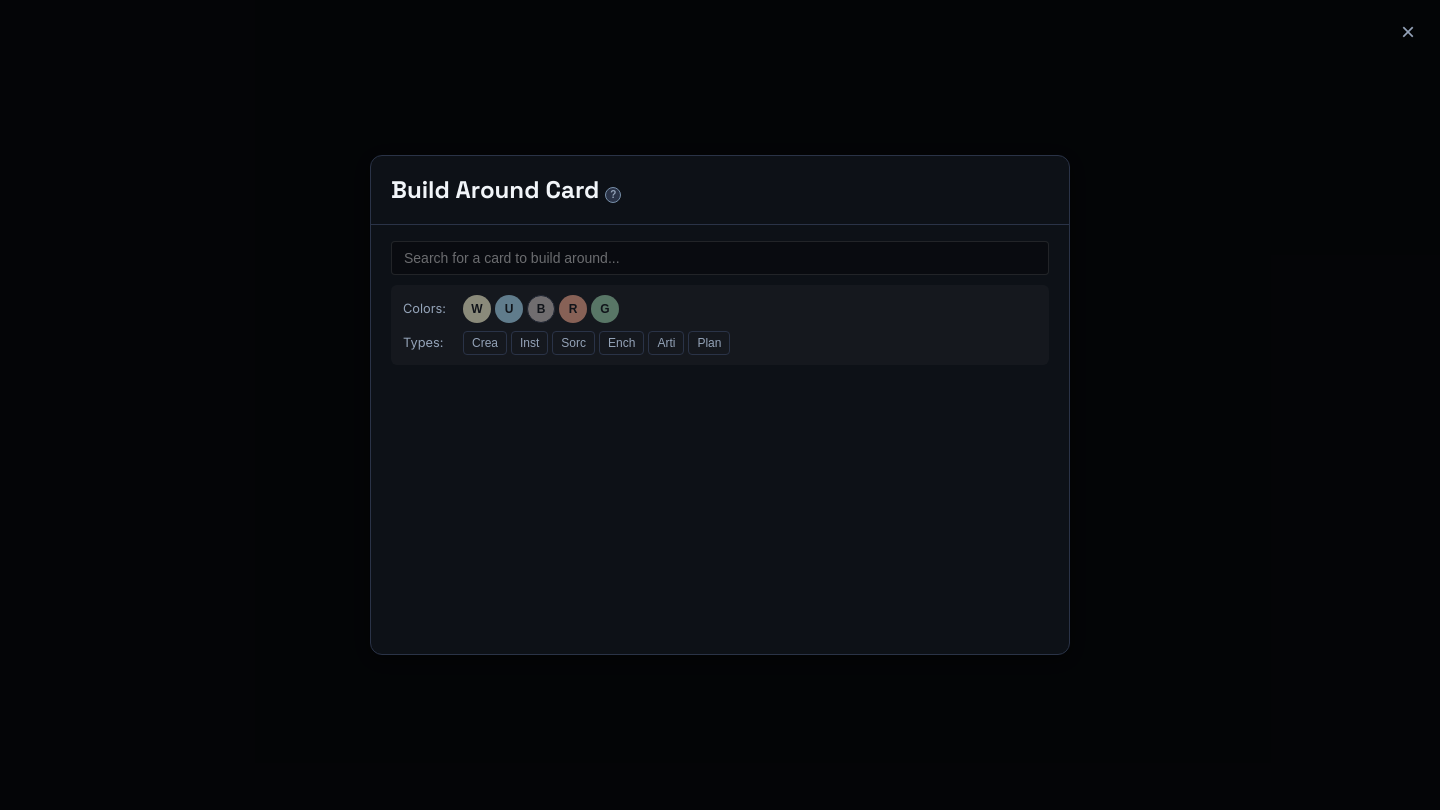
it: BuildAroundSeedModal › Search Filters › should allow multiple color filters (OR logic)
The width and height of the screenshot is (1440, 810).
// Search for cards
Type "Card" into the field with placeholder "Search for a card to build around...".
click(720, 258); type("Card")  # box 391,241 -> 1049,275
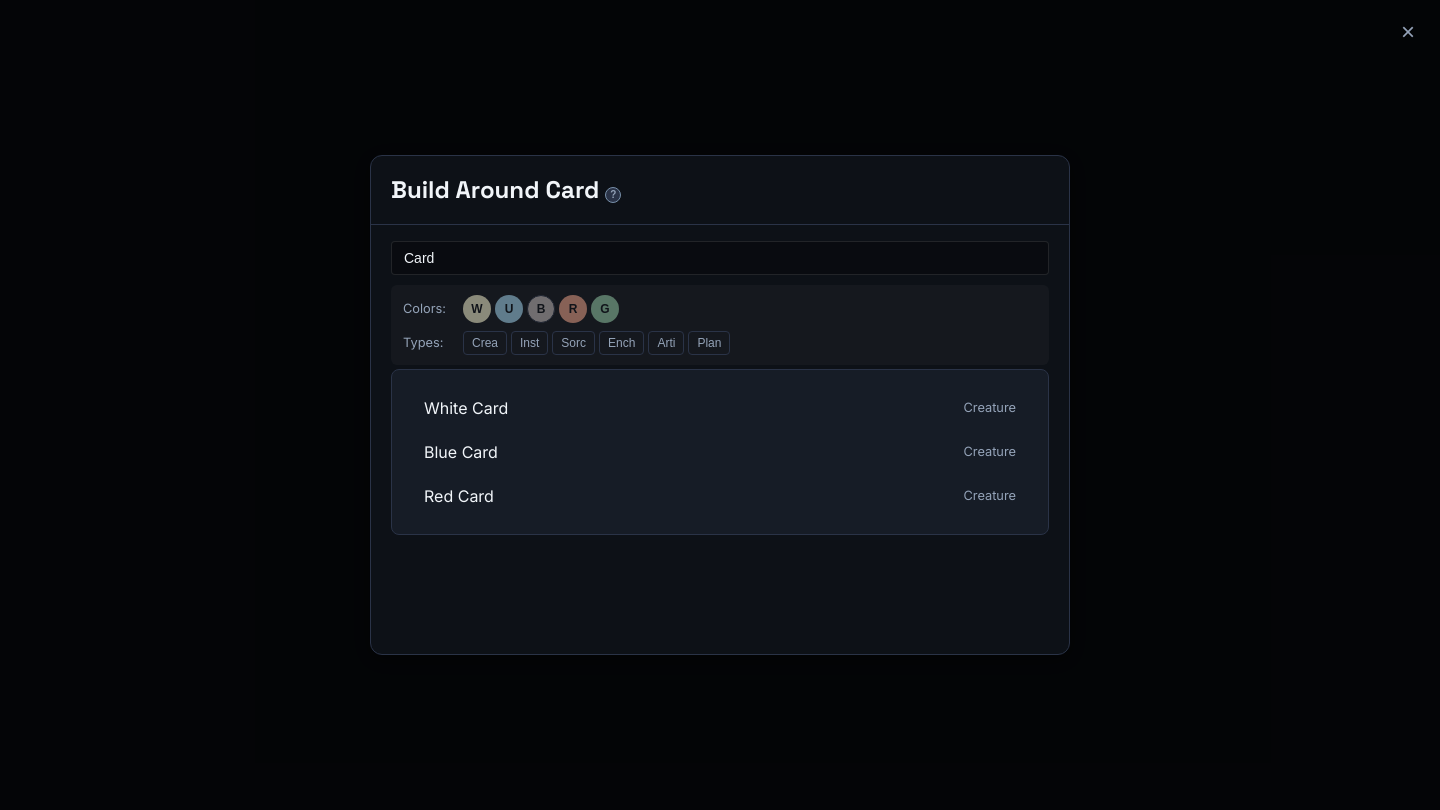
Result: the text "White Card" is shown at 424,398 -> 508,418
// Click White and Blue color filters
Click the button titled "White".
click(477, 309)  # box 463,295 -> 491,323
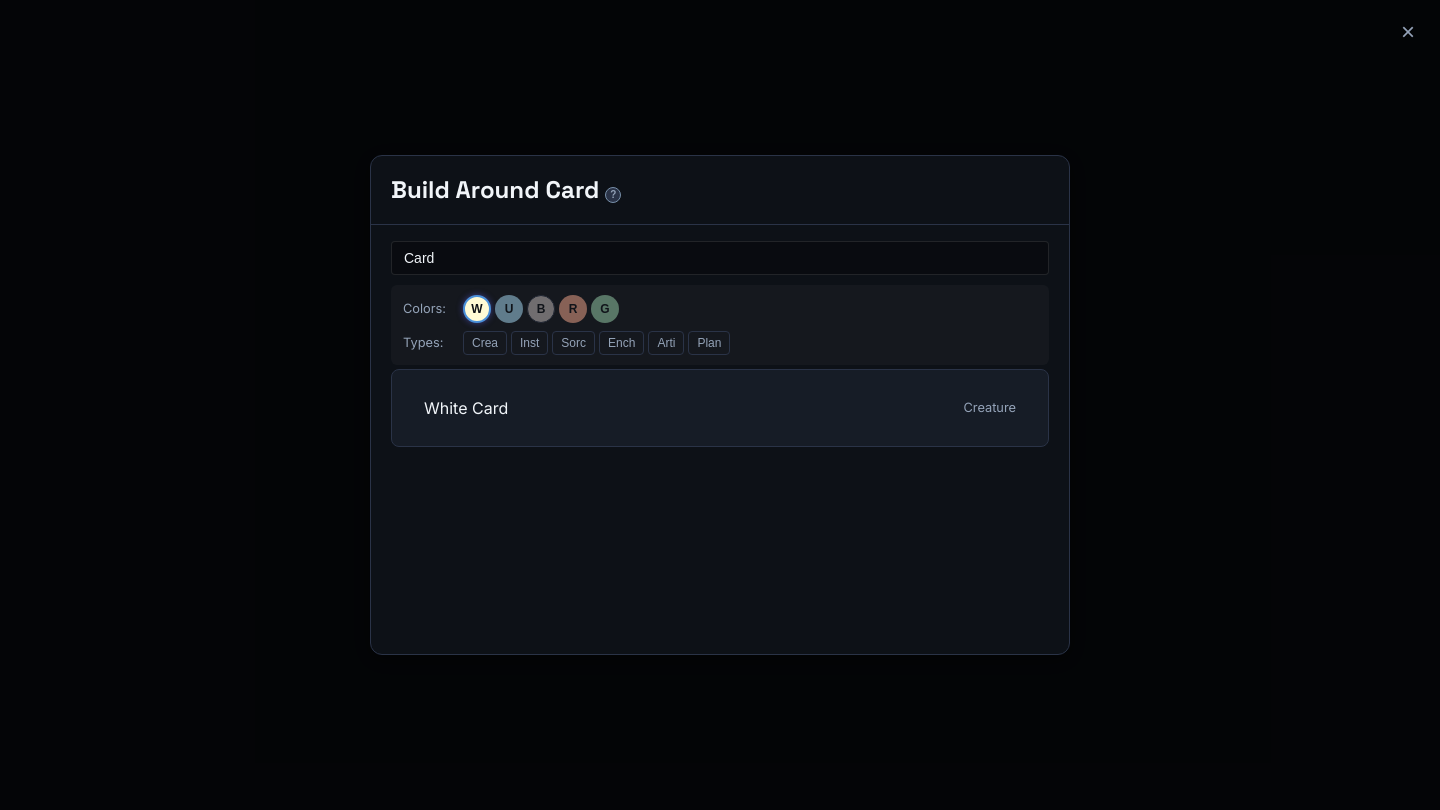
Click the button titled "Blue".
click(509, 309)  # box 495,295 -> 523,323
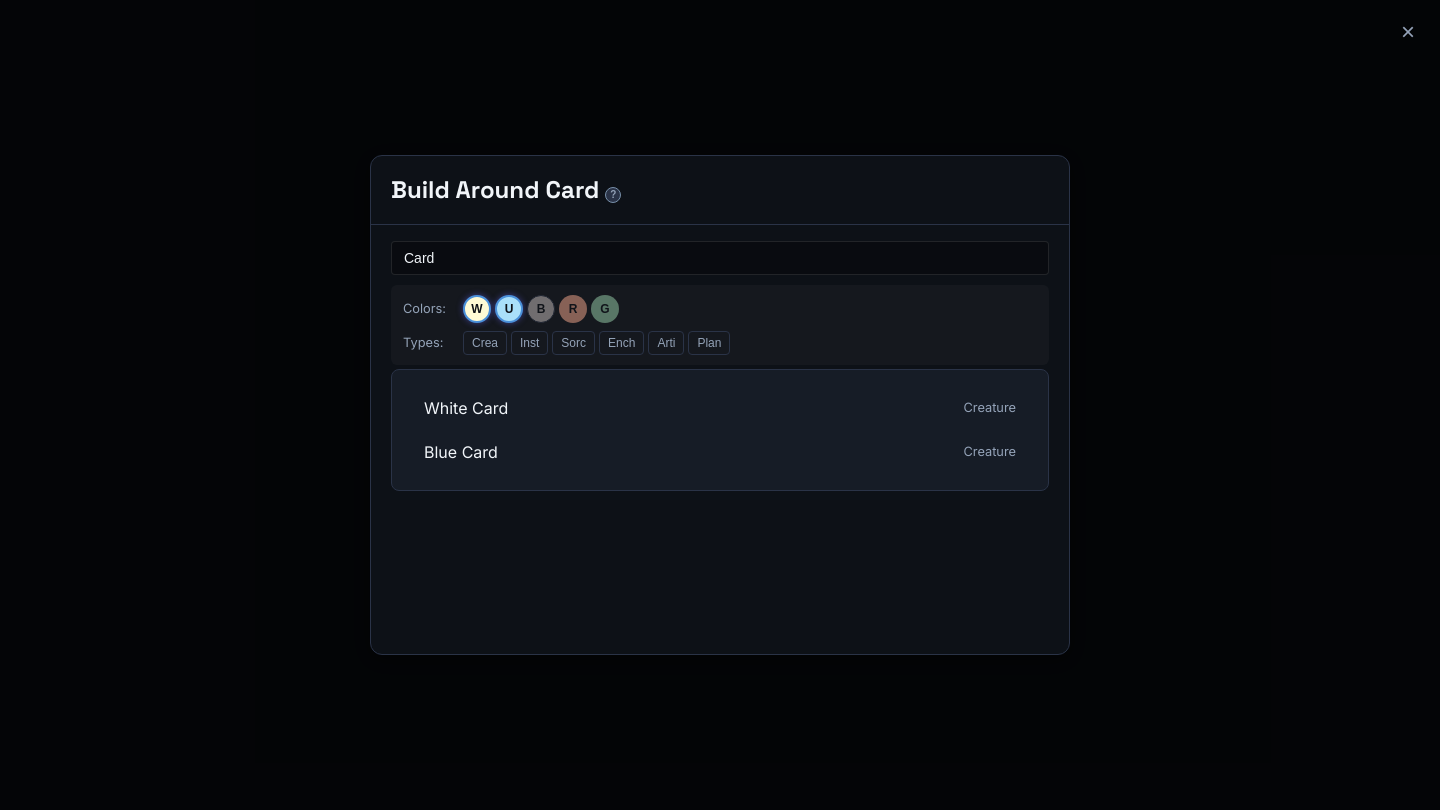
Expected: the text "Red Card" is not shown
Result: the text "White Card" is shown at 424,398 -> 508,418
Result: the text "Blue Card" is shown at 424,442 -> 498,462
